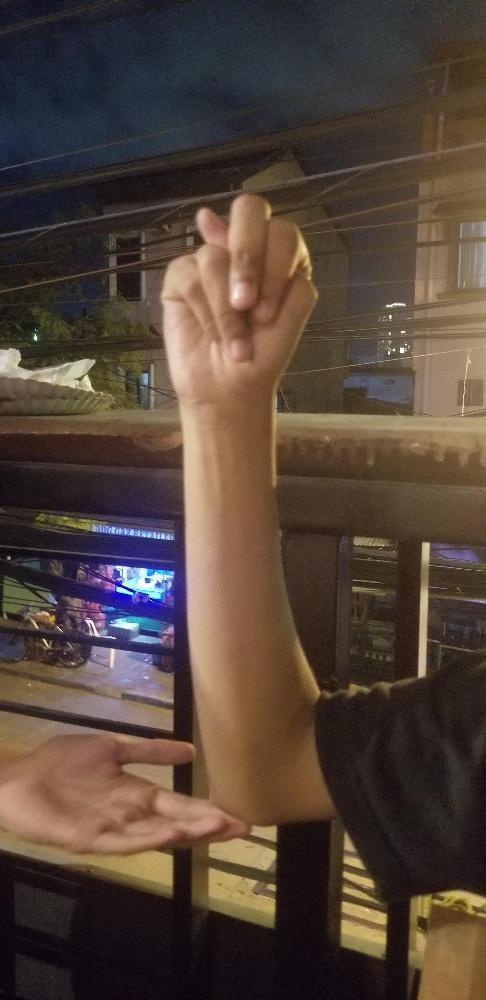n: (161, 193, 320, 396)
